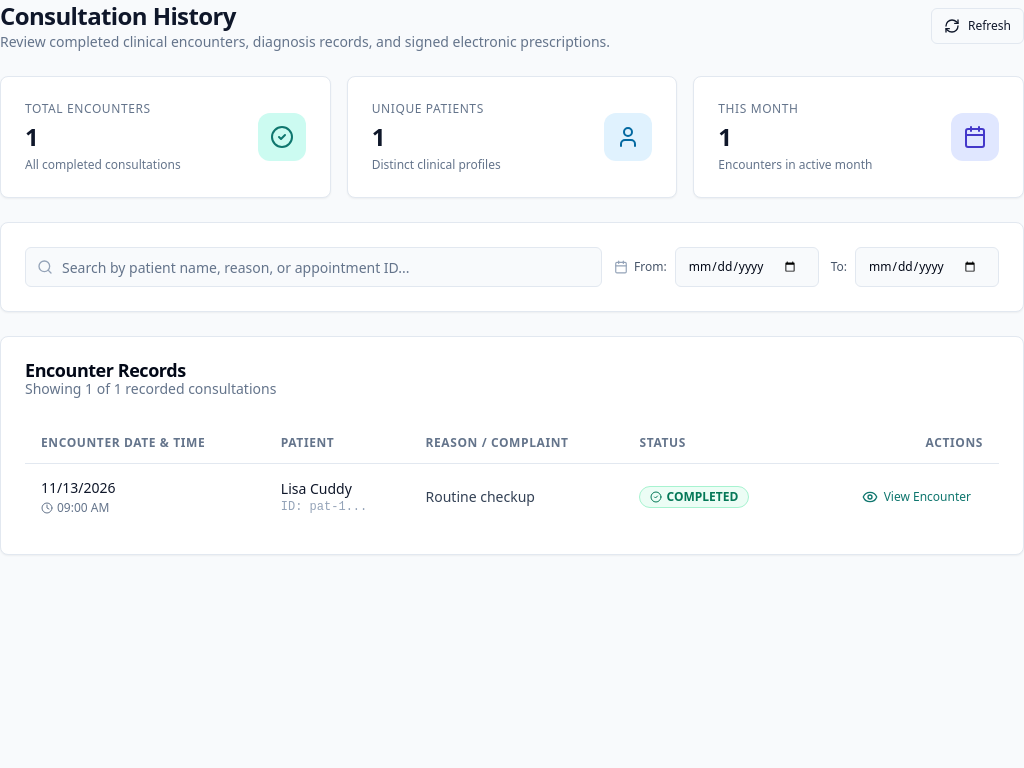
Scenario: Doctor Consultation Workspace & History Suites › DoctorHistoryPage › opens encounter record modal upon clicking View Encounter
Expected: the text "Lisa Cuddy" is shown, top-left (281, 479), bottom-right (352, 498)
Click the button "View Encounter": (916, 497) top-left (850, 479), bottom-right (983, 515)
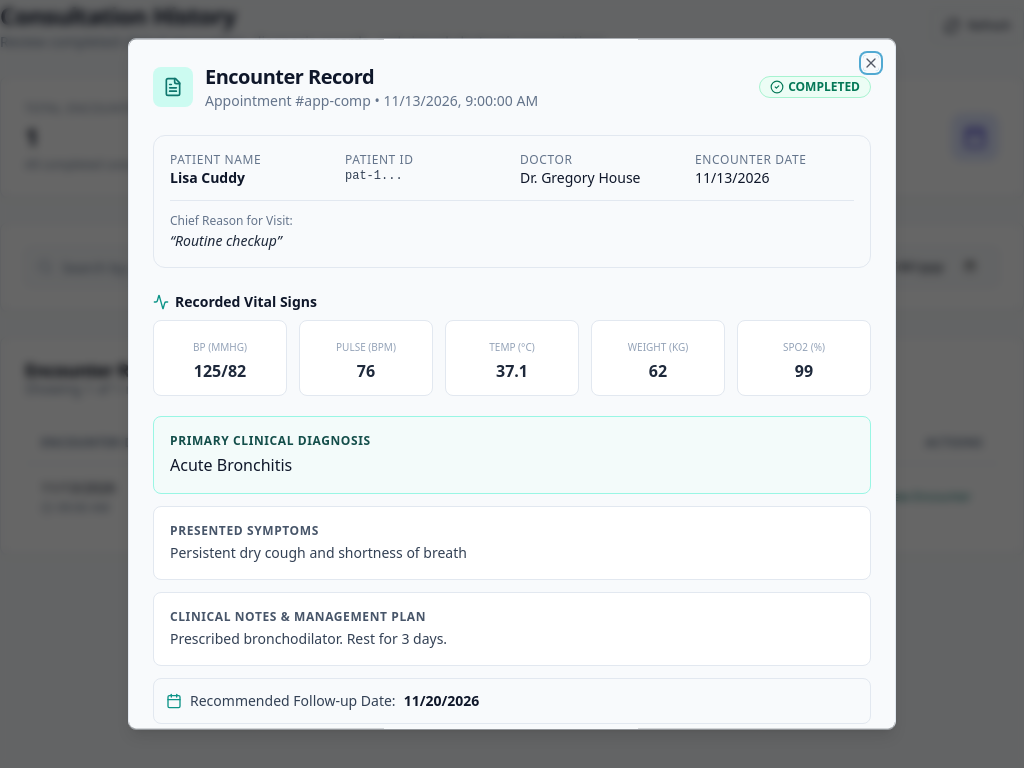
Expected: the heading "Encounter Record" is shown, top-left (205, 63), bottom-right (374, 90)
Expected: the text "Acute Bronchitis" is shown, top-left (170, 454), bottom-right (292, 476)
